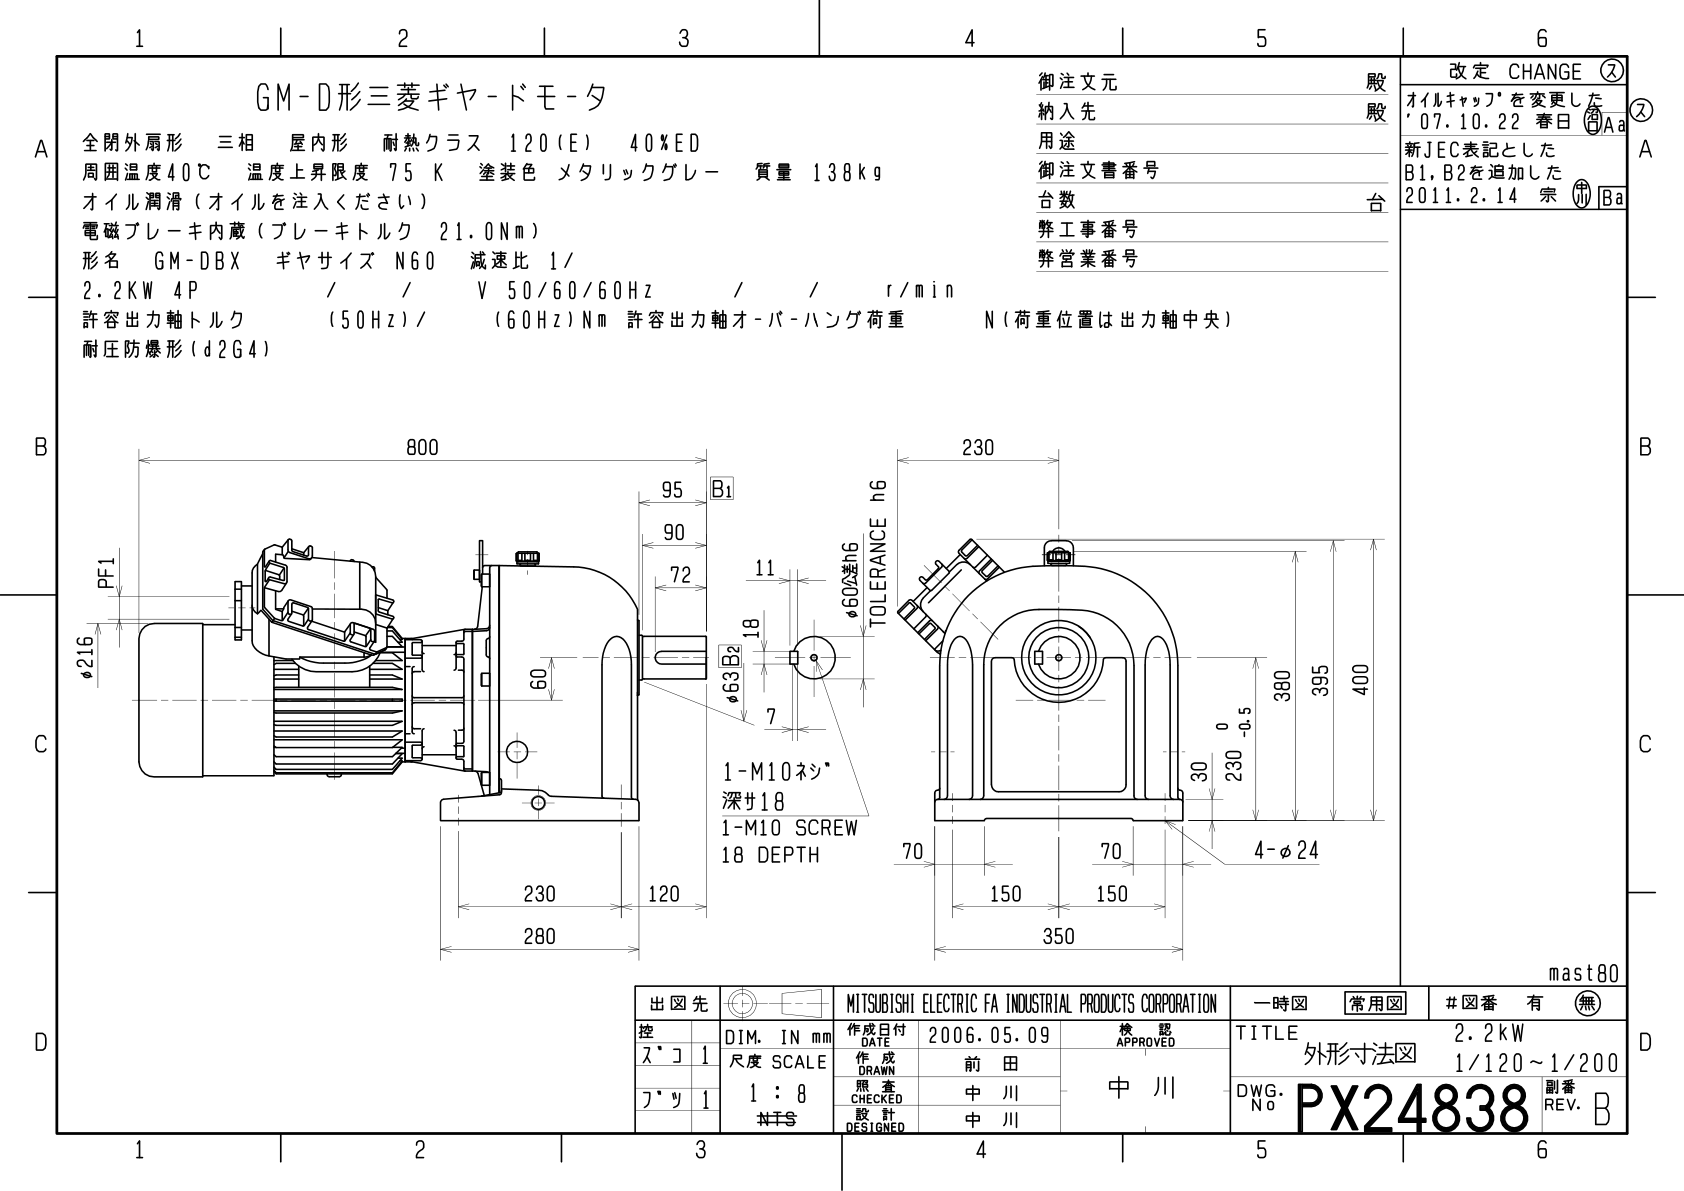GM_D_耐圧屋内_三相_脚: (67, 409, 1392, 967)
